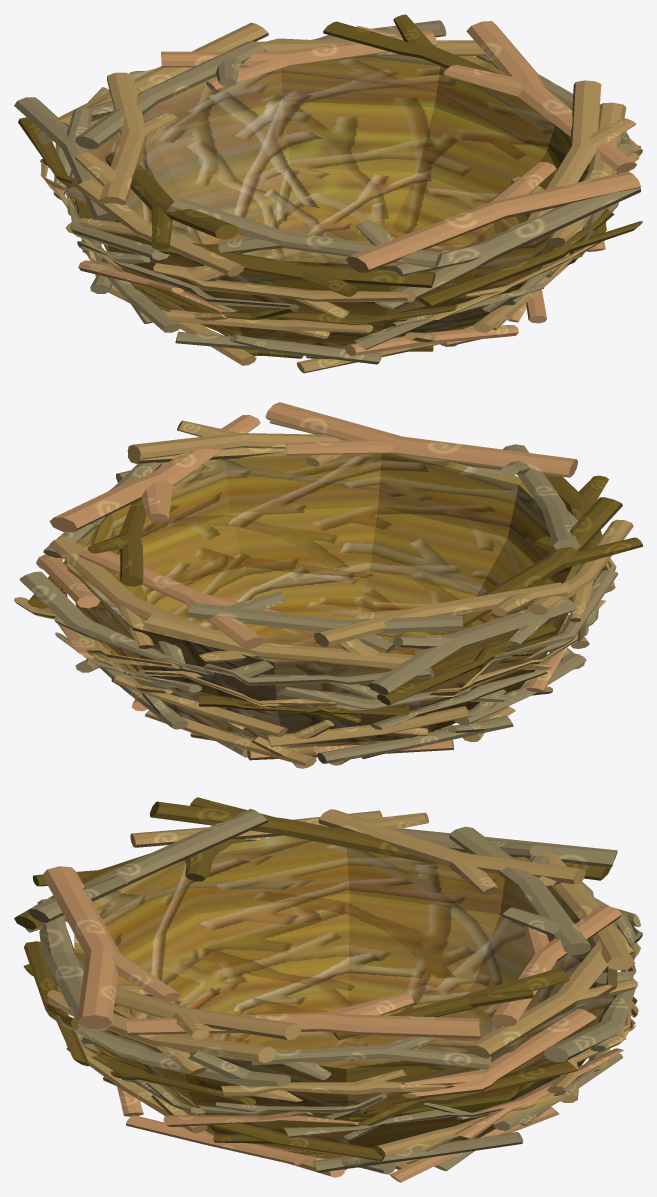
The model's file is Egg Nest.fbx.
3 renders of one model, top to bottom at view 1: azimuth 30°, elevation 25°; view 2: azimuth 150°, elevation 25°; view 3: azimuth 270°, elevation 25°, orthographic. The views are drawn at different scales.
Parts seen in each view (by area): view 1: polySurface200; view 2: polySurface200; view 3: polySurface200.
Boxes of the visible parts, x1,y1,x2,y2 form: polySurface200: (14,14,642,373); polySurface200: (14,402,642,768); polySurface200: (14,797,642,1182).
Bounding box in the file's own units: 77.05 × 29.67 × 77.4.
1 material, 1 textured.
